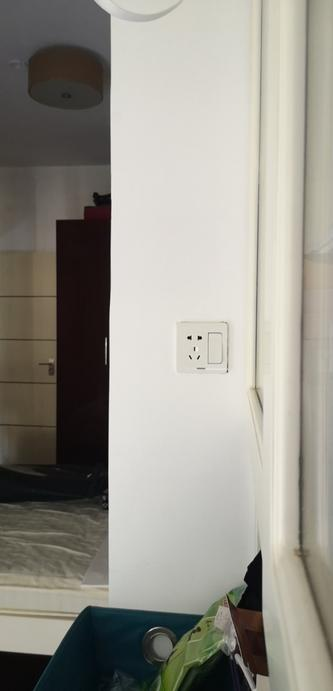switch: (210, 328, 227, 367)
